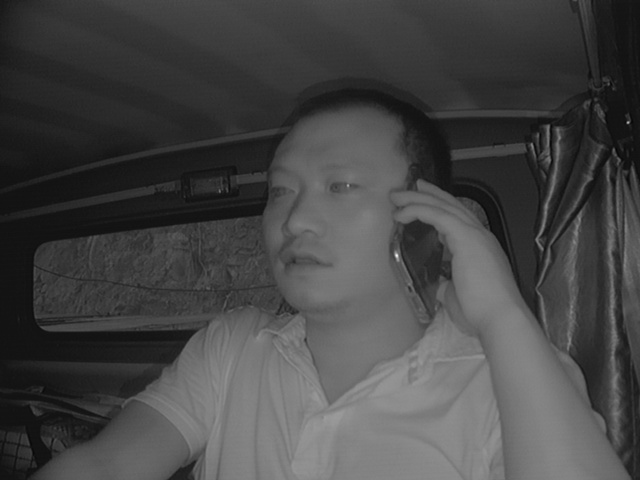hand: (396, 173, 503, 318)
